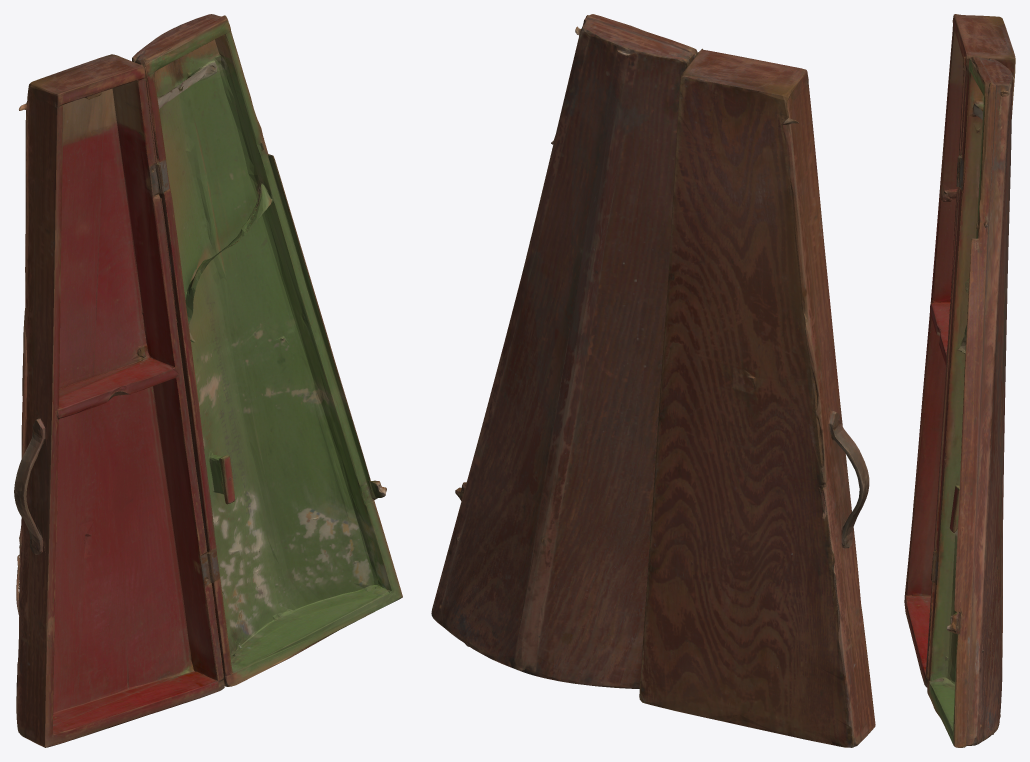
The model's file is E52BBC0E-512F-3642-9C96-416A672B0D09_2k.glb.
The picture shows the model from 3 angles, left to right: view 1: azimuth 30°, elevation 25°; view 2: azimuth 150°, elevation 25°; view 3: azimuth 270°, elevation 25°; orthographic projection. The views are drawn at different scales.
Parts seen in each view (by area): view 1: Geigenkasten_14k_2k; view 2: Geigenkasten_14k_2k; view 3: Geigenkasten_14k_2k.
Boxes of the visible parts, x1,y1,x2,y2 form: Geigenkasten_14k_2k: (14,14,402,747); Geigenkasten_14k_2k: (431,14,875,747); Geigenkasten_14k_2k: (904,14,1015,747).
Bounding box in the file's own units: 0.5215 × 0.8187 × 0.1314.
Materials: 1 (1 with a texture image).
